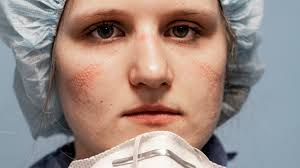mask_weared_incorrect: (76, 4, 224, 163)
